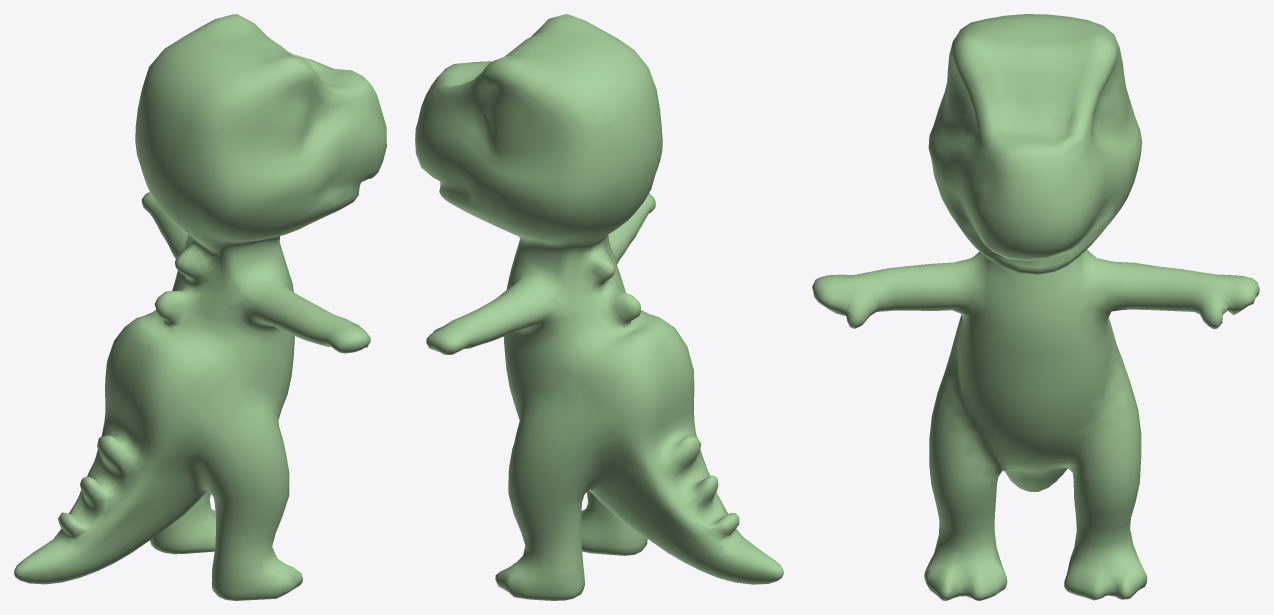
Rendered from trex.glb.
The picture shows the model from 3 angles, left to right: view 1: azimuth 30°, elevation 25°; view 2: azimuth 150°, elevation 25°; view 3: azimuth 270°, elevation 25°; orthographic projection. The views are drawn at different scales.
Parts seen in each view (by area): view 1: mesh; view 2: mesh; view 3: mesh.
Part boxes in pixels (<box>): mesh: <box>14,14,386,600</box>; mesh: <box>415,14,783,600</box>; mesh: <box>812,14,1259,600</box>.
Size of the model in its own units: 0.7245 by 0.9987 by 0.7129.
